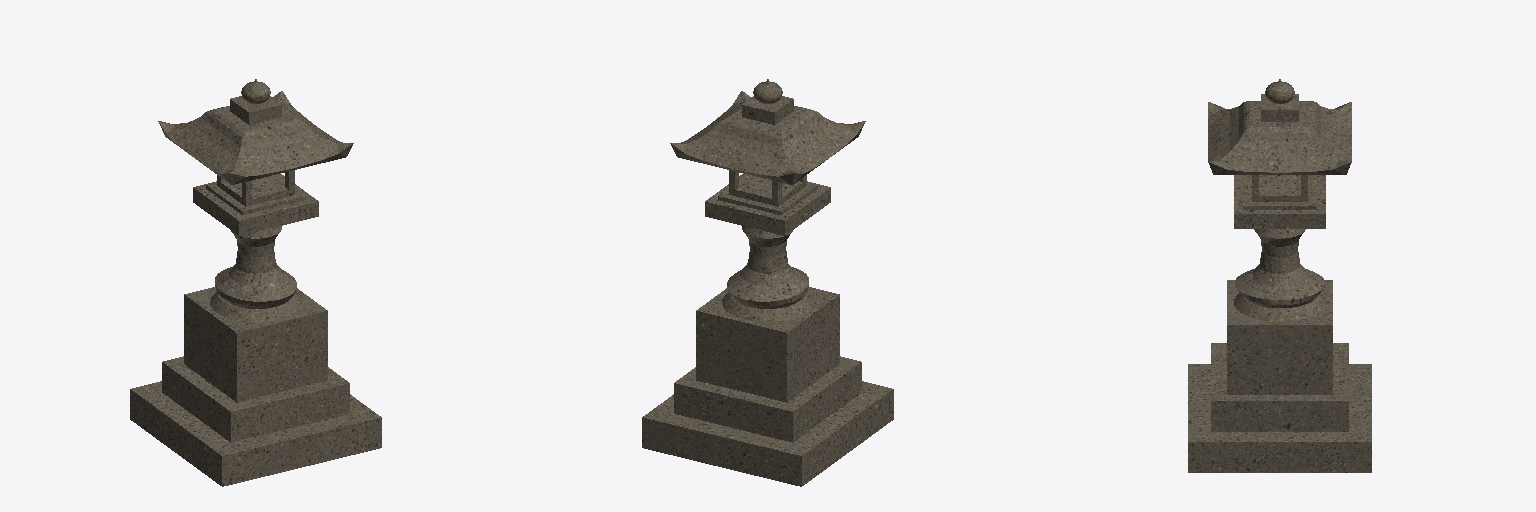
3 views of the same model, side by side, from view 1: azimuth 30°, elevation 25°; view 2: azimuth 150°, elevation 25°; view 3: azimuth 270°, elevation 25° (orthographic).
Visible parts, largest first — view 1: tourou; view 2: tourou; view 3: tourou.
Boxes of the visible parts, x1=… form: tourou: x1=130, y1=79, x2=381, y2=486; tourou: x1=642, y1=79, x2=893, y2=486; tourou: x1=1188, y1=79, x2=1371, y2=472.
Size of the model in its own units: 8.75 by 18.66 by 8.75.
1 materials, 1 textured.